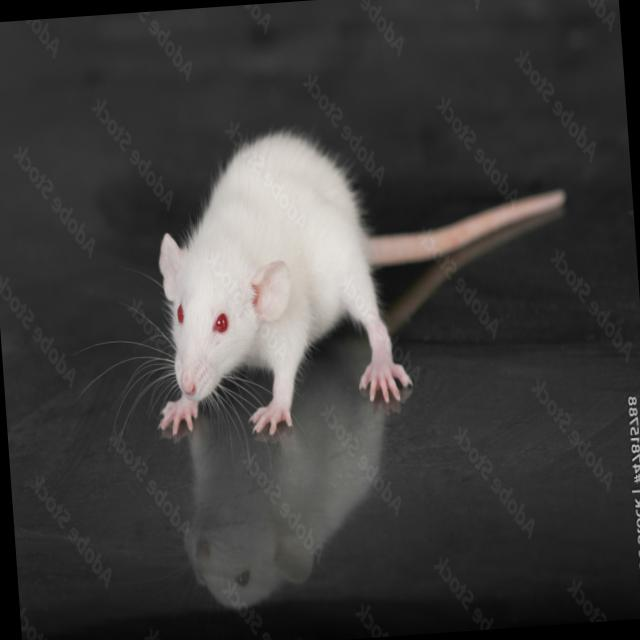rodents: (124, 118, 408, 470)
